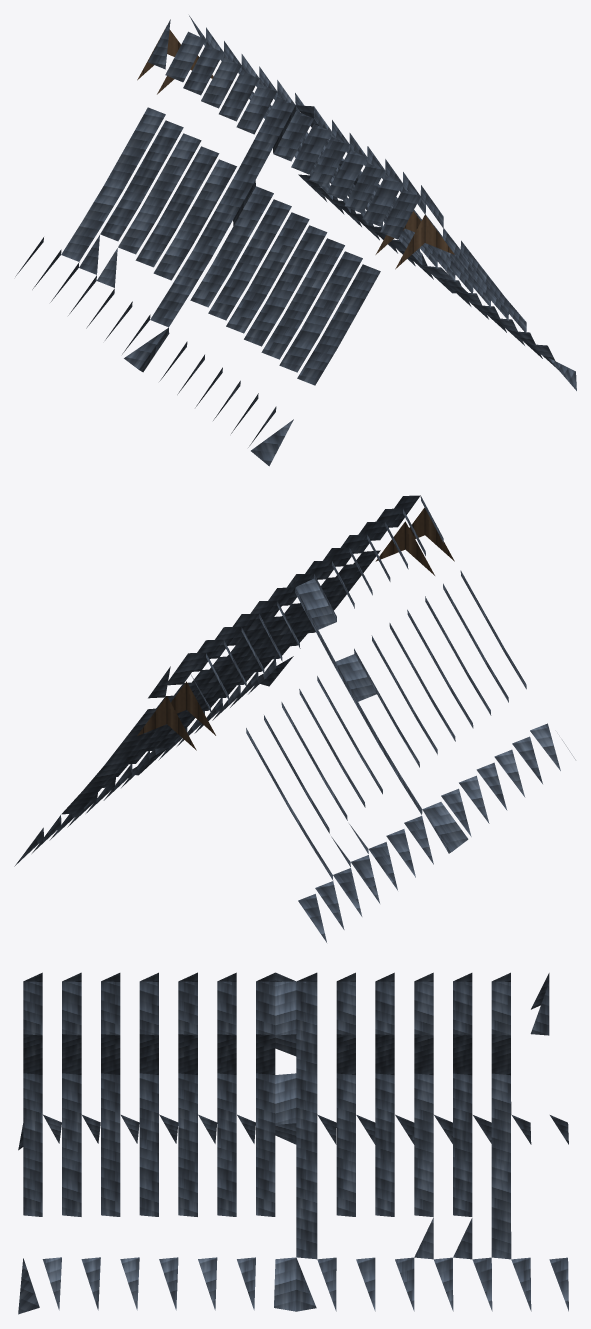
File: Roof_Slate_4x6_LOD2.gltf
The picture shows the model from 3 angles, top to bottom: view 1: azimuth 30°, elevation 25°; view 2: azimuth 150°, elevation 25°; view 3: azimuth 270°, elevation 25°; orthographic projection. The views are drawn at different scales.
Parts seen in each view (by area): view 1: Roof_Slate_4x6_LOD2; view 2: Roof_Slate_4x6_LOD2; view 3: Roof_Slate_4x6_LOD2.
Boxes of the visible parts, box(x1,y1,x2,y2) form: Roof_Slate_4x6_LOD2: box(15, 15, 576, 466); Roof_Slate_4x6_LOD2: box(14, 495, 575, 942); Roof_Slate_4x6_LOD2: box(18, 972, 568, 1314).
Bounding box in the file's own units: 5.51 × 3.79 × 7.57.
Materials: 2 (2 with a texture image).
